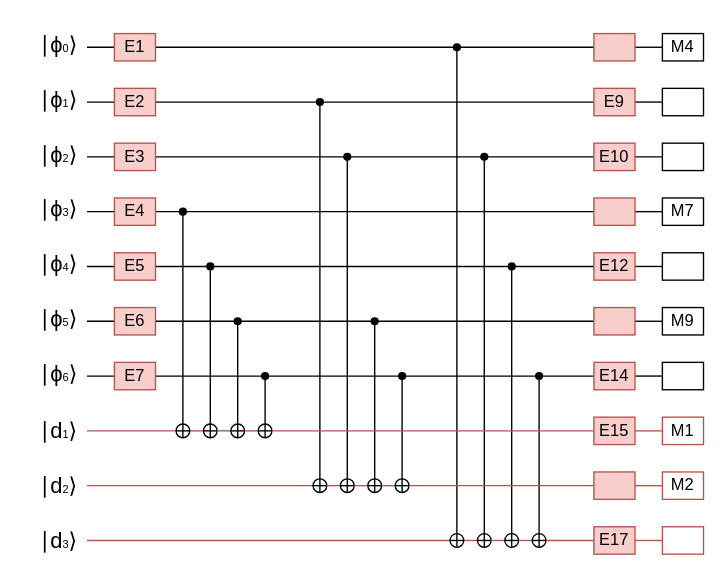
The diagram is 727 pixels wide and 584 high, and some of its shapes have lost their labels. The centre of each missing label's shape, as x and y in pixels:
"E11" belongs at pixel 614 211.
"E13" belongs at pixel 614 320.
"E16" belongs at pixel 614 485.
"E8" belongs at pixel 614 46.
"M10" belongs at pixel 682 375.
"M3" belongs at pixel 682 539.
"M5" belongs at pixel 682 101.
"M6" belongs at pixel 682 156.
"M8" belongs at pixel 682 265.
